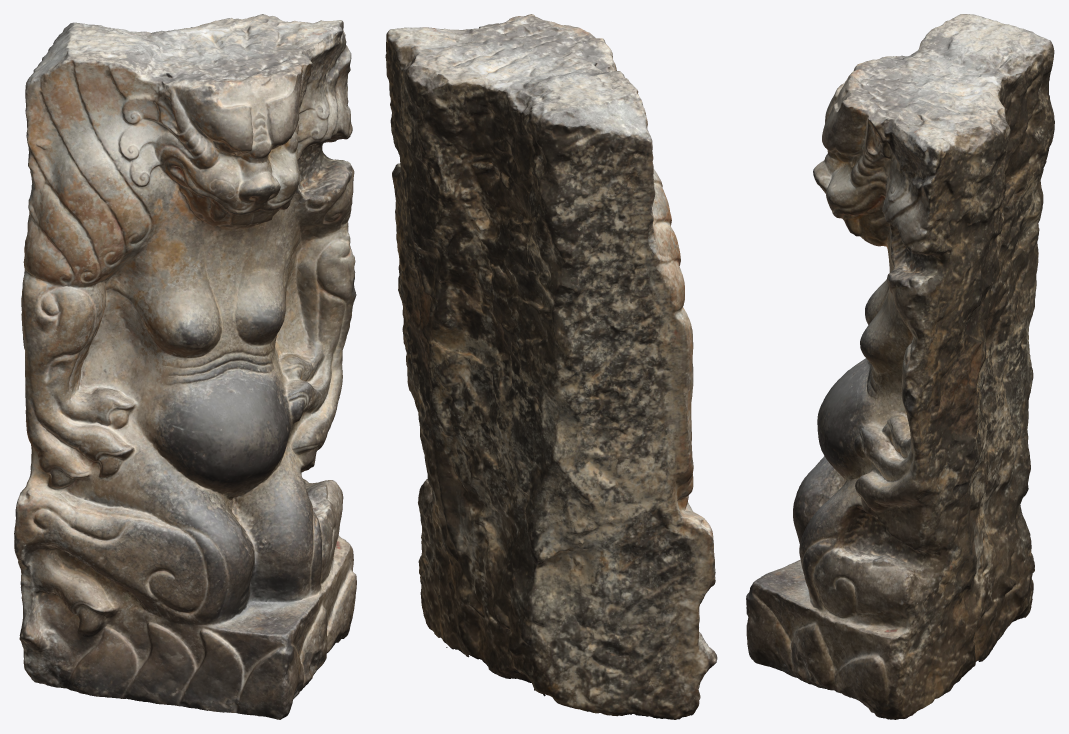
File: guardian.glb
3 views of the same model, side by side, from view 1: azimuth 30°, elevation 25°; view 2: azimuth 150°, elevation 25°; view 3: azimuth 270°, elevation 25° (orthographic). The views are drawn at different scales.
Size of the model in its own units: 492 by 869 by 407.
1 material, 1 textured.
